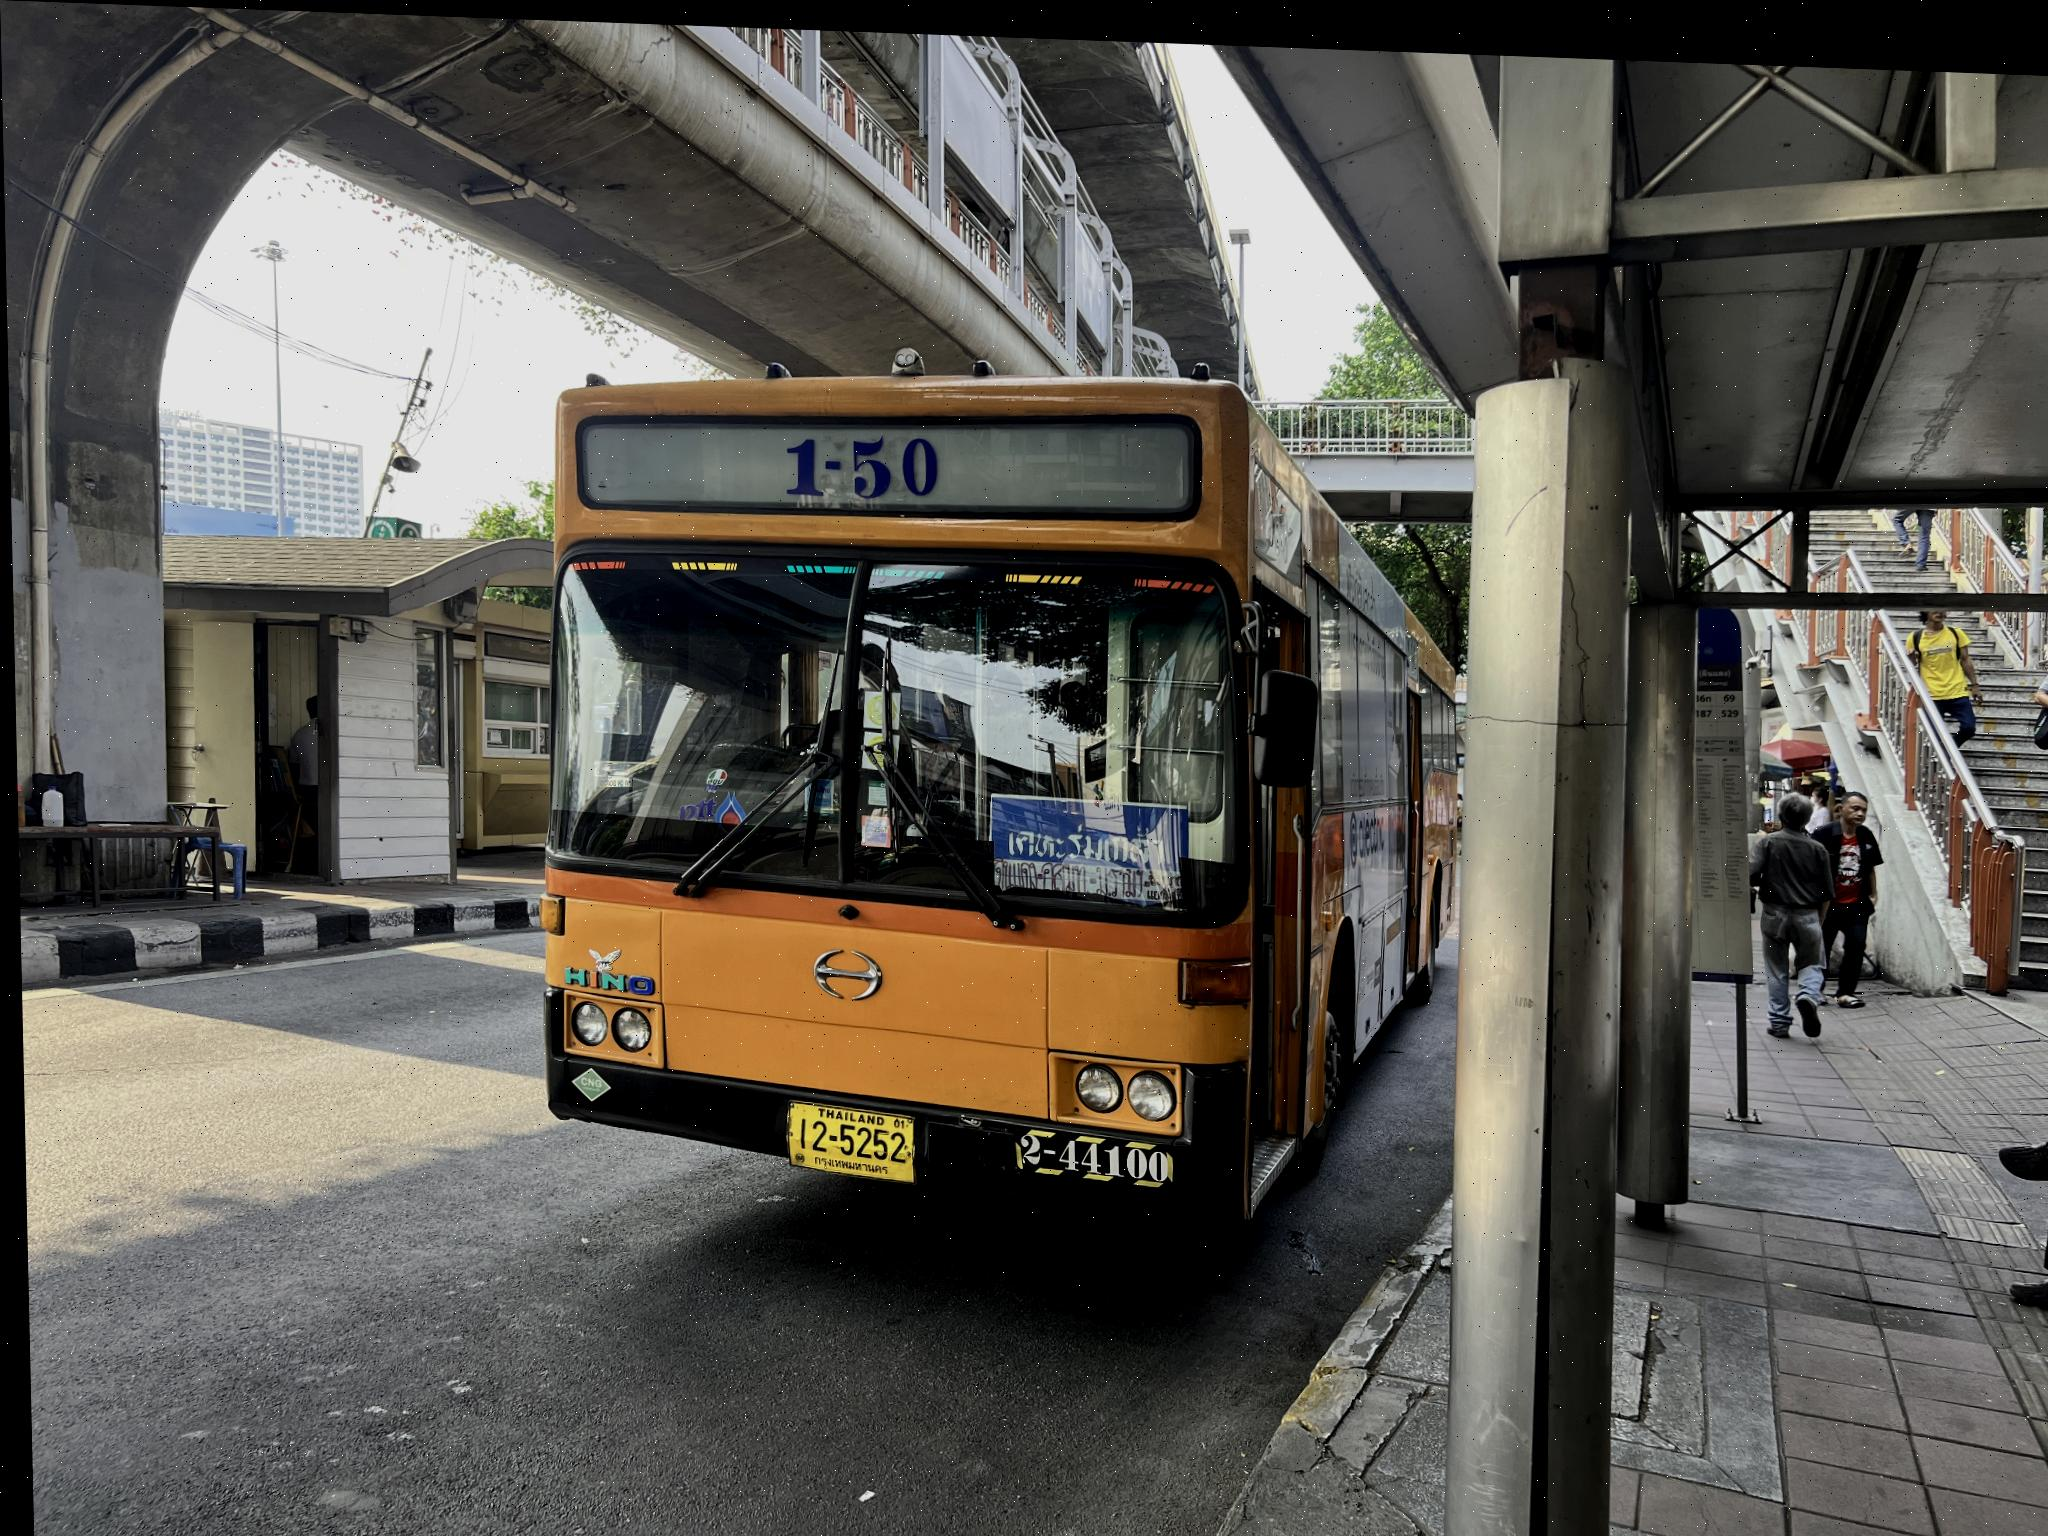BMTA-bus: (532, 368, 1461, 1220)
Bus Line Number: (764, 408, 951, 503)
Bus Side Number: (1011, 1115, 1174, 1181)
Destination Sign: (982, 786, 1190, 904)
